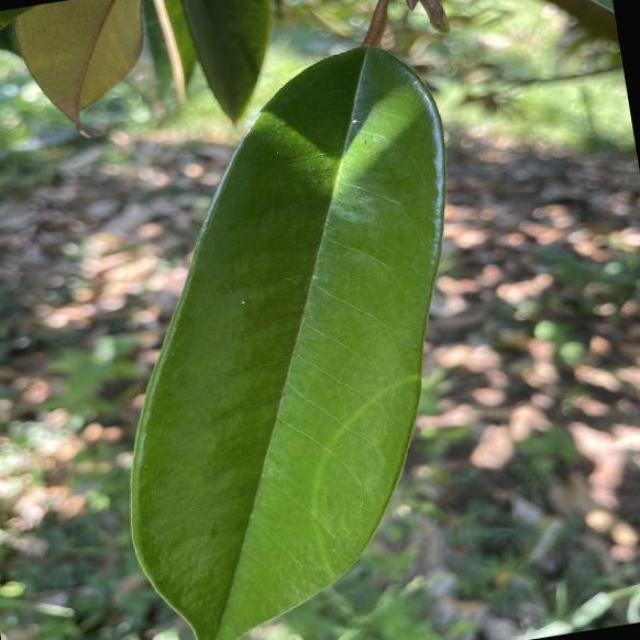No Disease: (44, 26, 528, 640)
